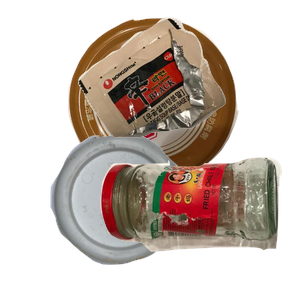glass: (98, 155, 300, 300)
metal: (66, 15, 297, 193)
plastic: (48, 132, 224, 300)
trash: (76, 15, 300, 145)
